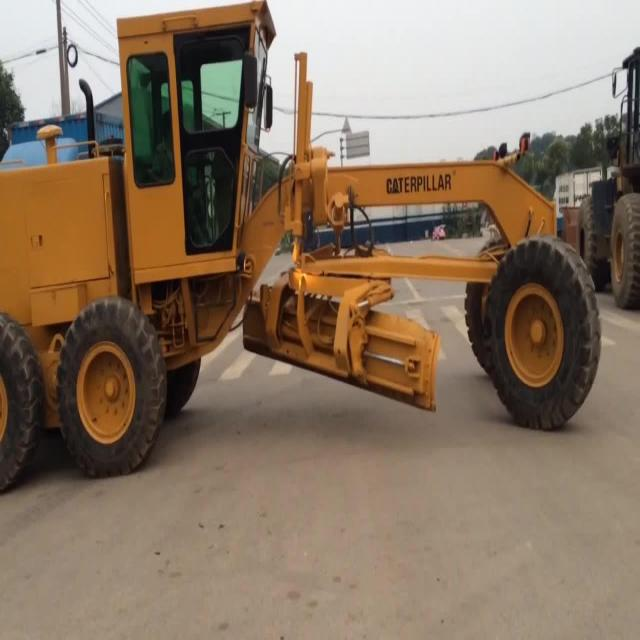Grader: (4, 9, 630, 525)
